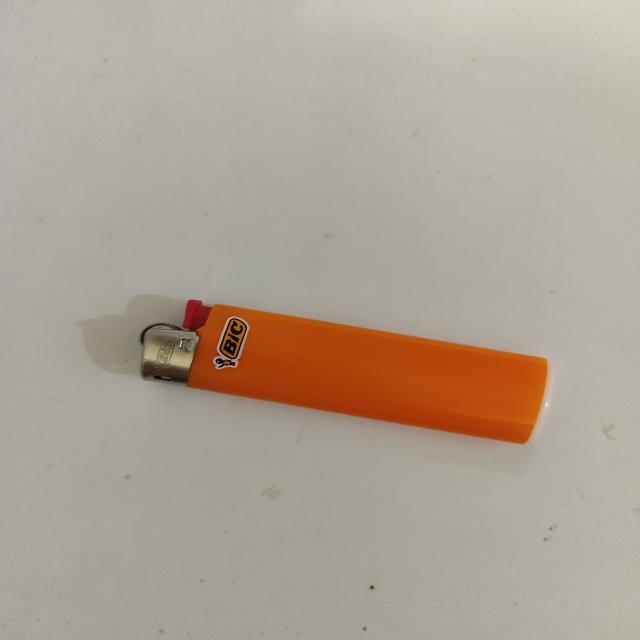lighter: (141, 300, 547, 443)
